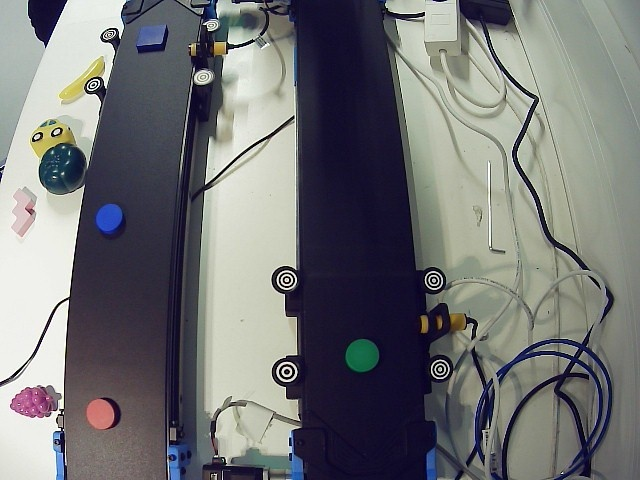Blue_Circle: (94, 203, 124, 237)
Blue_Square: (135, 22, 169, 52)
Green_Circle: (344, 337, 380, 373)
Red_Circle: (83, 398, 120, 431)
